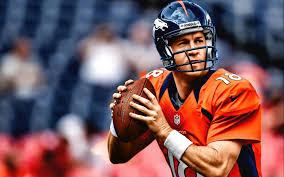americanFootball: (113, 77, 157, 143)
